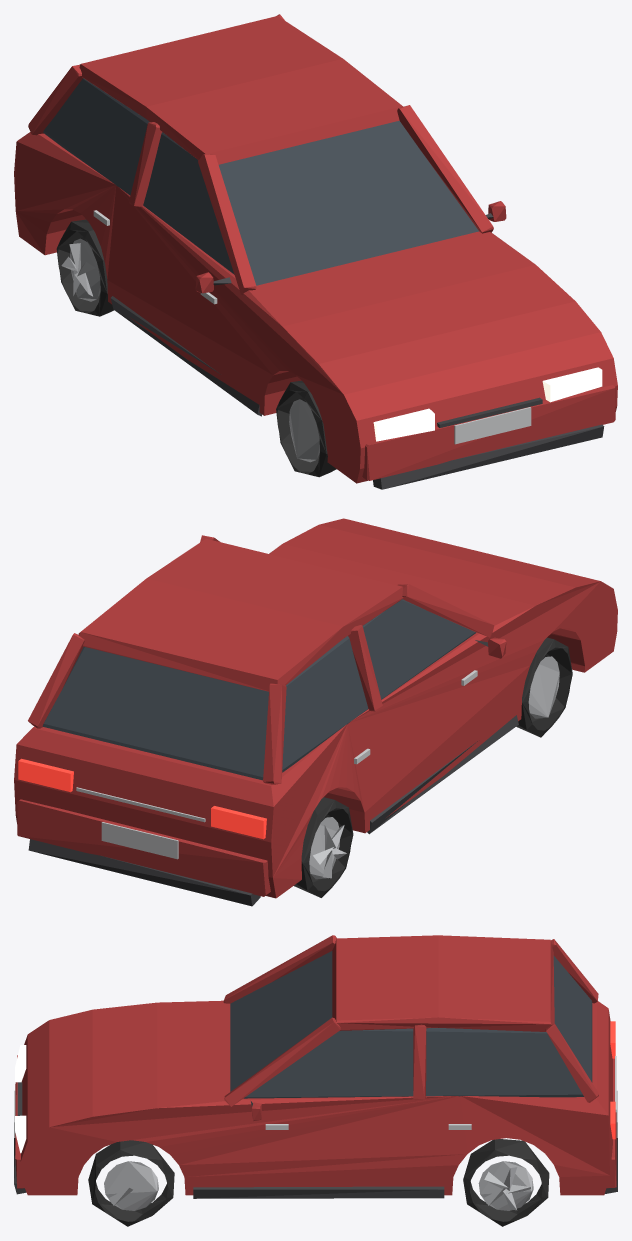
File: car-red-lod1.glb
3 views of the same model, one above another, from view 1: azimuth 30°, elevation 25°; view 2: azimuth 150°, elevation 25°; view 3: azimuth 270°, elevation 25° (orthographic). The views are drawn at different scales.
Bounding box in the file's own units: 2.1 × 1.52 × 4.19.
